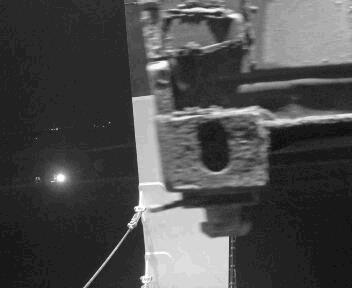twist_lock_1: (151, 186, 246, 246)
